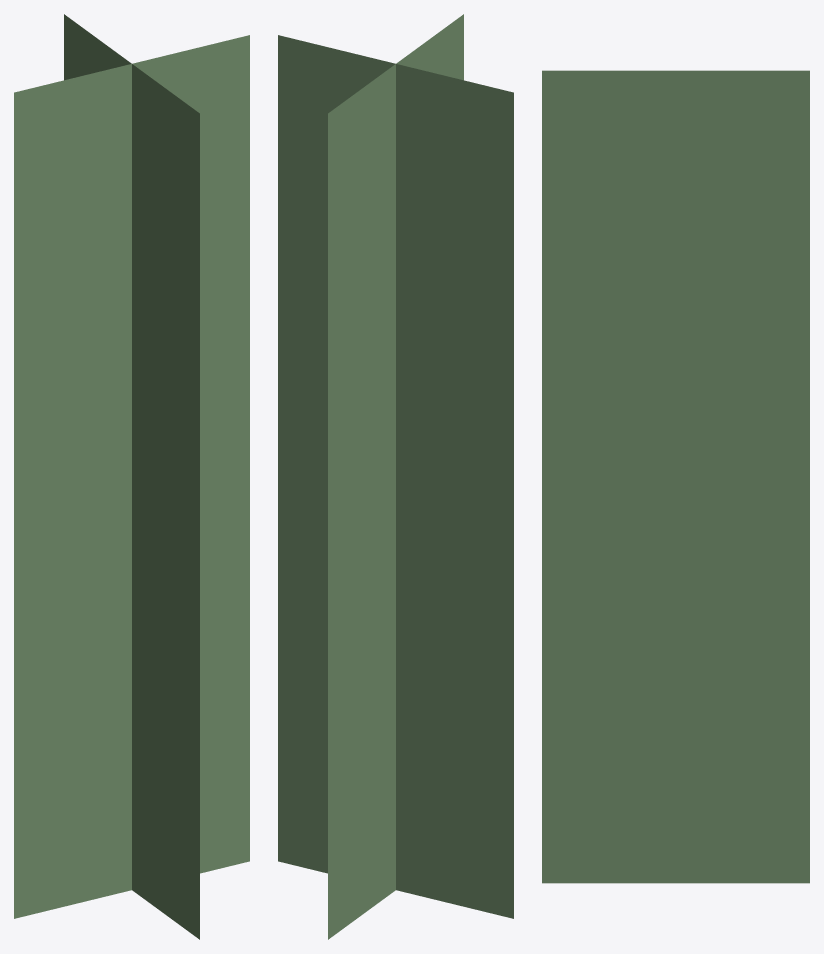
The picture shows the model from 3 angles, left to right: view 1: azimuth 30°, elevation 25°; view 2: azimuth 150°, elevation 25°; view 3: azimuth 270°, elevation 25°; orthographic projection.
Size of the model in its own units: 2 by 6.7 by 2.
